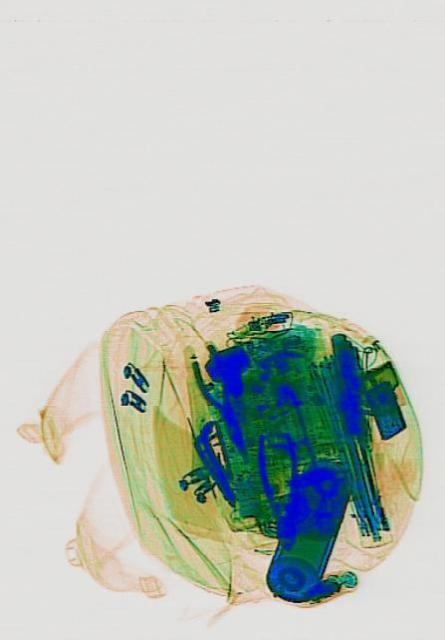Pliers: (184, 339, 255, 467), (253, 426, 307, 556)
